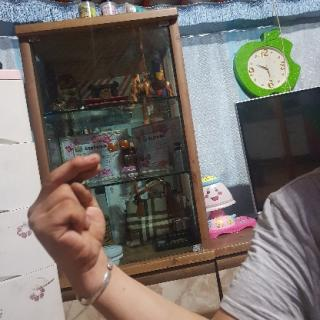ZAY: (24, 153, 124, 277)
